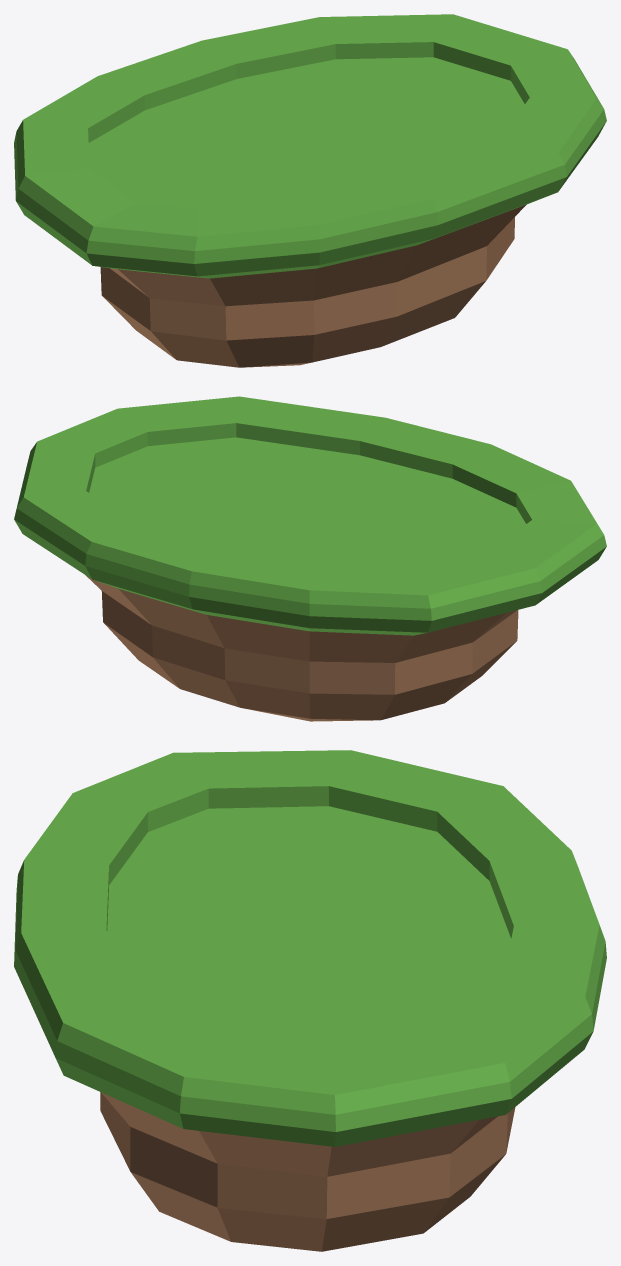
Rendered from Island-Bowl.fbx.
3 views of the same model, one above another, from view 1: azimuth 30°, elevation 25°; view 2: azimuth 150°, elevation 25°; view 3: azimuth 270°, elevation 25° (orthographic). The views are drawn at different scales.
Visible parts, largest first — view 1: Grass, Soil; view 2: Grass, Soil; view 3: Grass, Soil.
Part boxes in pixels (left/top/right/bottom): Grass: left=14, top=14, right=606, bottom=278; Soil: left=100, top=204, right=526, bottom=367; Grass: left=14, top=396, right=606, bottom=635; Soil: left=85, top=575, right=518, bottom=721; Grass: left=14, top=750, right=606, bottom=1146; Soil: left=100, top=1092, right=515, bottom=1251.
Size of the model in its own units: 849 by 349 by 596.
